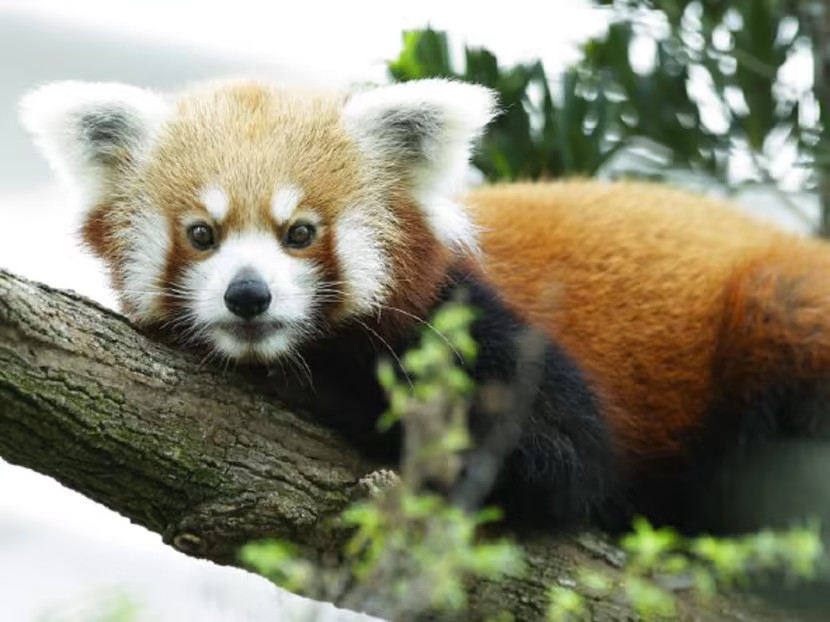Red panda: (16, 56, 505, 364)
